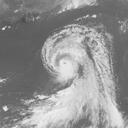cyclone: (40, 24, 100, 84)
